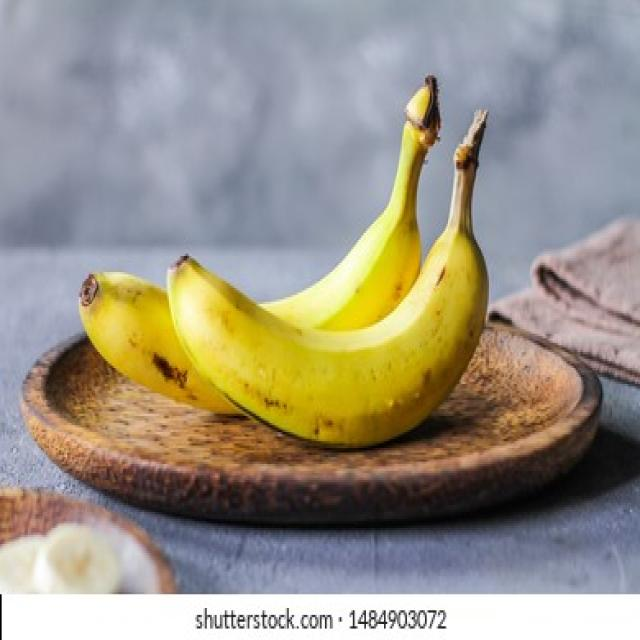banana: (78, 73, 438, 423), (170, 112, 490, 450)
